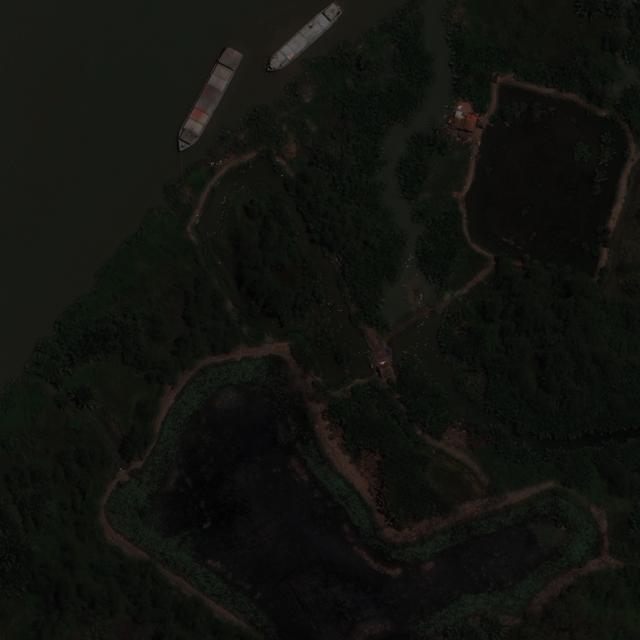Cargo: (169, 44, 247, 157), (261, 1, 346, 78)
